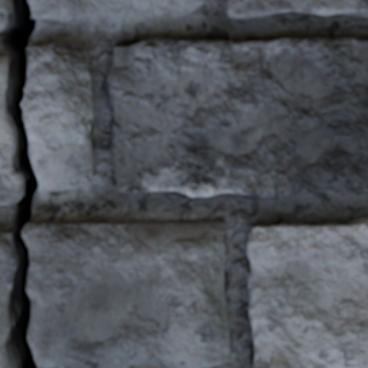brick: (107, 38, 367, 199), (247, 218, 367, 367), (226, 0, 367, 18)
broken_brick: (23, 219, 231, 367), (23, 40, 94, 192), (31, 0, 207, 26), (0, 56, 23, 206), (0, 231, 15, 367), (0, 0, 11, 30)
crack: (0, 0, 43, 367)
